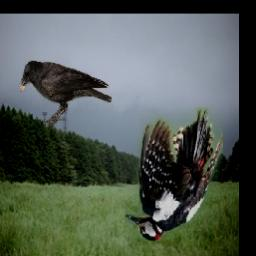Crow: (18, 59, 112, 125)
Woodpecker: (126, 107, 224, 241)
